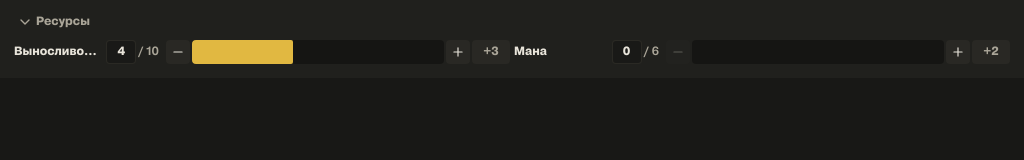
Test: счётчики ресурсов › завершение старого запроса не снимает новый draft и таймер
The width and height of the screenshot is (1024, 160).
Click the button named "Потратить одно очко: Выносливость": (178, 52) 166,40 -> 190,64
Wait 600 ms
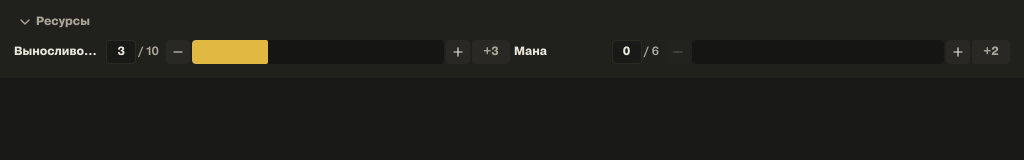
Click the button named "Потратить одно очко: Выносливость": (178, 52) 166,40 -> 190,64
Wait 600 ms
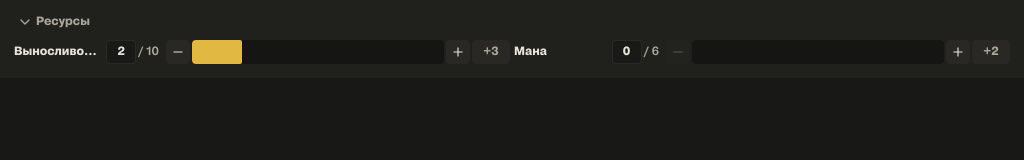
Check: the number field named "Очки: Выносливость" holds "2", box 106,40 -> 136,64
